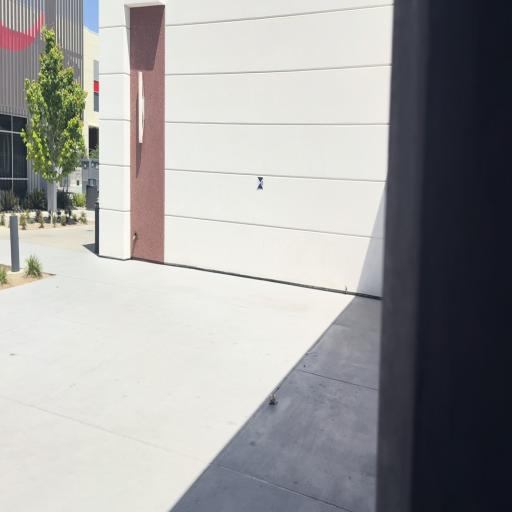target0: (257, 176, 264, 190)
